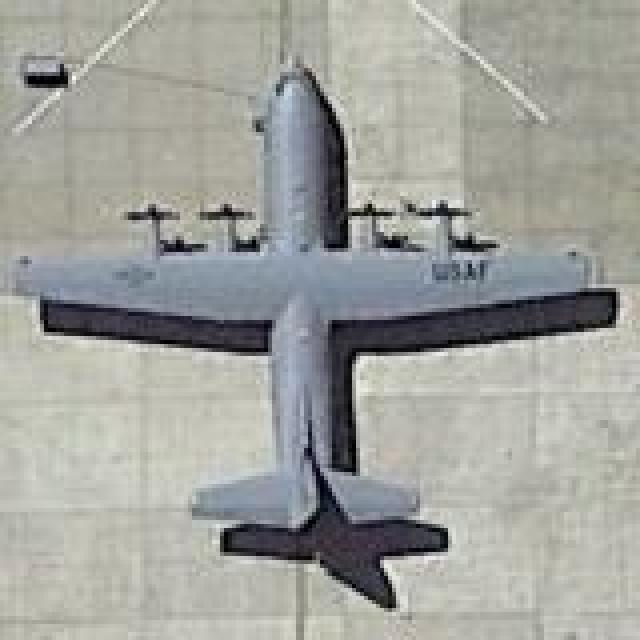C-130_TopDown: (2, 58, 623, 610)
